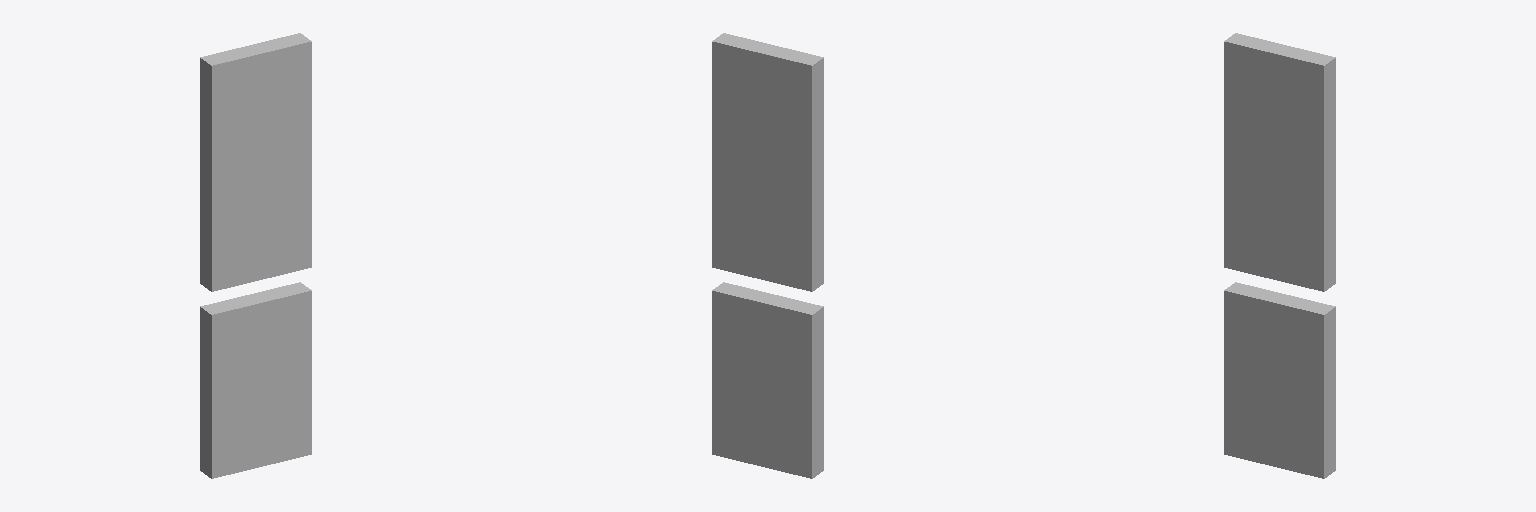
Rendered from Signs2.obj.
3 renders of one model, left to right at view 1: azimuth 30°, elevation 25°; view 2: azimuth 150°, elevation 25°; view 3: azimuth 330°, elevation 25°, orthographic.
Parts seen in each view (by area): view 1: Signs2; view 2: Signs2; view 3: Signs2.
Boxes of the visible parts, box(x1,y1,x2,y2) form: Signs2: box(200, 33, 311, 478); Signs2: box(712, 33, 823, 478); Signs2: box(1224, 33, 1335, 478).
Bounding box in the file's own units: 1.28 × 5.04 × 0.2566.